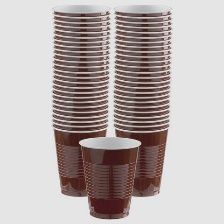glass: (110, 1, 182, 200), (51, 0, 112, 201), (76, 133, 143, 222)
